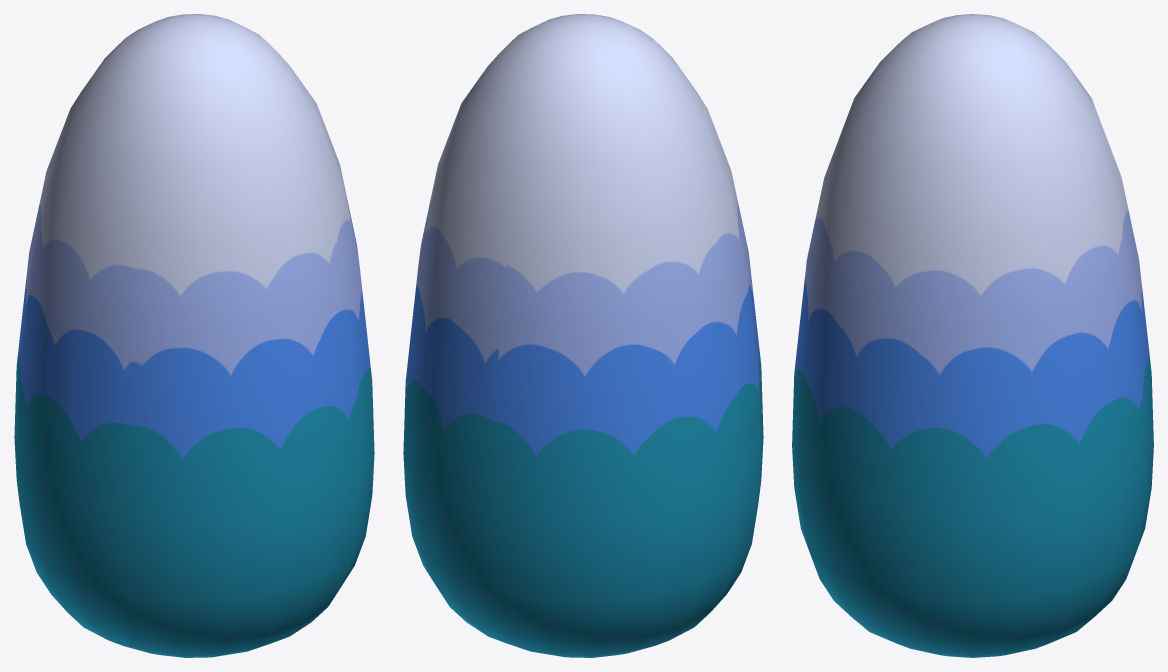
Rendered from Egg.fbx.
3 renders of one model, left to right at view 1: azimuth 30°, elevation 25°; view 2: azimuth 150°, elevation 25°; view 3: azimuth 270°, elevation 25°, orthographic.
Visible parts, largest first — view 1: Egg; view 2: Egg; view 3: Egg.
Part boxes in pixels (x1,y1,x2,y2): Egg: [14, 14, 374, 657]; Egg: [403, 14, 763, 657]; Egg: [792, 14, 1153, 657].
Bounding box in the file's own units: 544 × 1019 × 544.
Materials: 1 (1 with a texture image).
